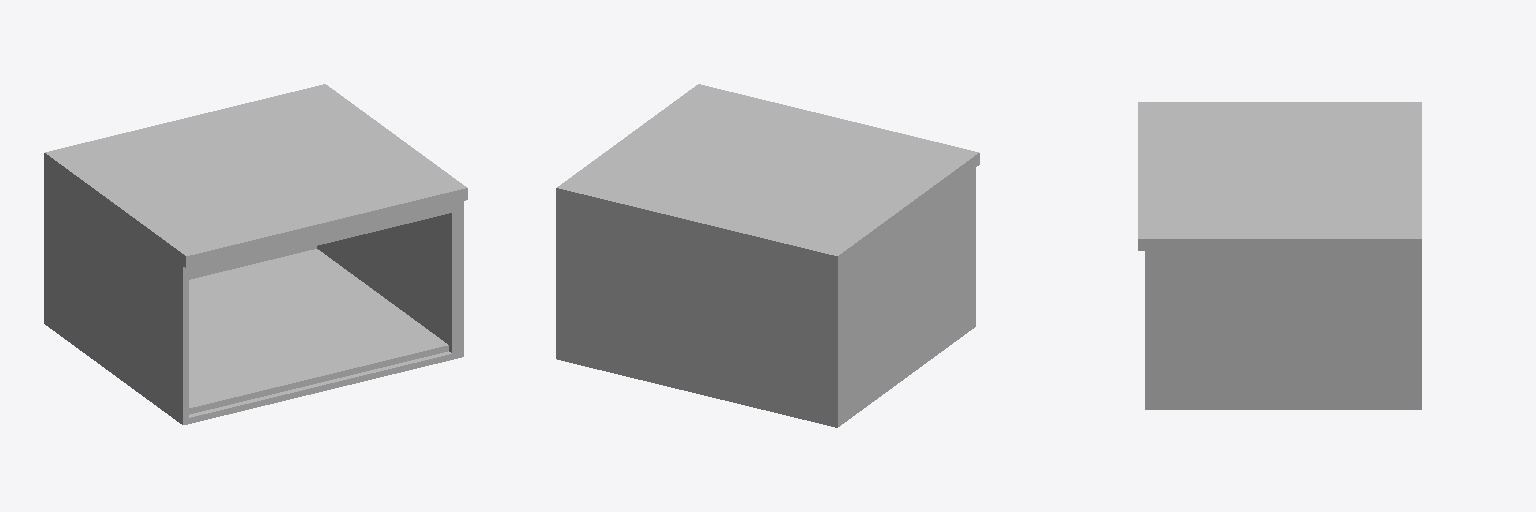
Rendered from KitchenOPEN_Export-8.obj.
The picture shows the model from 3 angles: view 1: azimuth 30°, elevation 25°; view 2: azimuth 150°, elevation 25°; view 3: azimuth 270°, elevation 25°; orthographic projection.
Visible parts, largest first — view 1: KitchenOPEN_Export-8; view 2: KitchenOPEN_Export-8; view 3: KitchenOPEN_Export-8.
Part boxes in pixels (left/top/right/bottom): KitchenOPEN_Export-8: left=44, top=84, right=467, bottom=424; KitchenOPEN_Export-8: left=556, top=84, right=979, bottom=427; KitchenOPEN_Export-8: left=1138, top=102, right=1421, bottom=409.
Bounding box in the file's own units: 48 × 28 × 42.